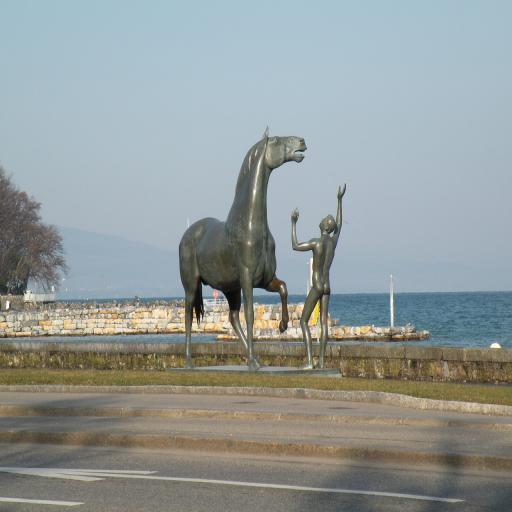horse: (178, 125, 308, 372)
